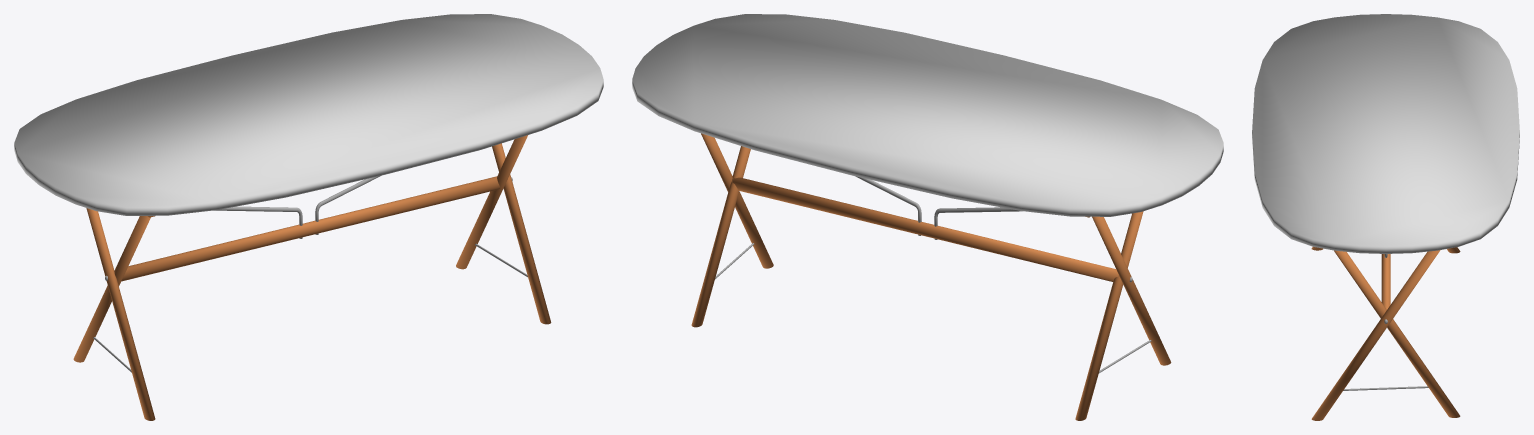
File: BP_dalshult_C.glb
3 renders of one model, left to right at view 1: azimuth 30°, elevation 25°; view 2: azimuth 150°, elevation 25°; view 3: azimuth 270°, elevation 25°, orthographic. The views are drawn at different scales.
Parts seen in each view (by area): view 1: Plane; view 2: Plane; view 3: Plane.
Part boxes in pixels (<box>): Plane: <box>14,14,603,420</box>; Plane: <box>632,14,1223,420</box>; Plane: <box>1252,14,1519,420</box>.
Size of the model in its own units: 1.96 by 0.8006 by 0.9539.
